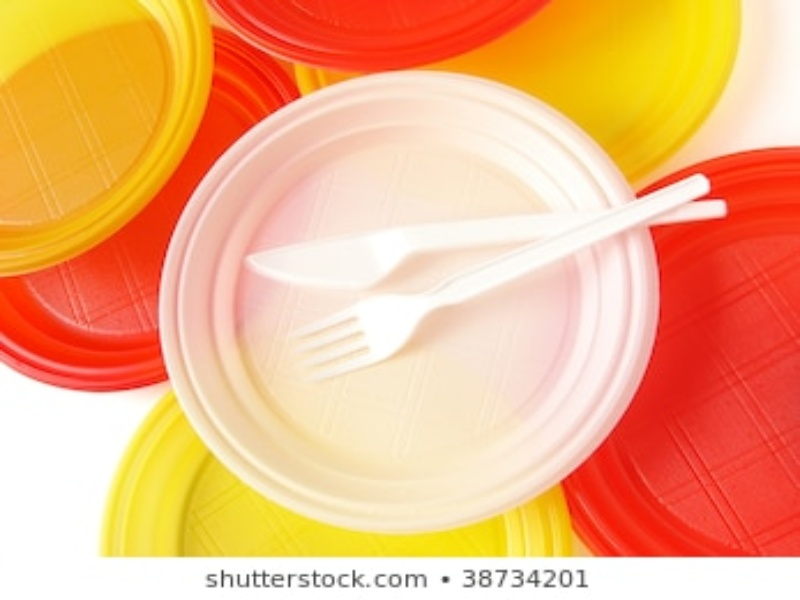plastic-plate: (158, 68, 660, 539), (1, 22, 304, 387), (566, 146, 800, 558), (289, 1, 742, 182), (105, 393, 594, 558), (1, 2, 216, 277), (211, 1, 551, 68)
plastic-silverware: (290, 173, 715, 382), (242, 197, 731, 291)
